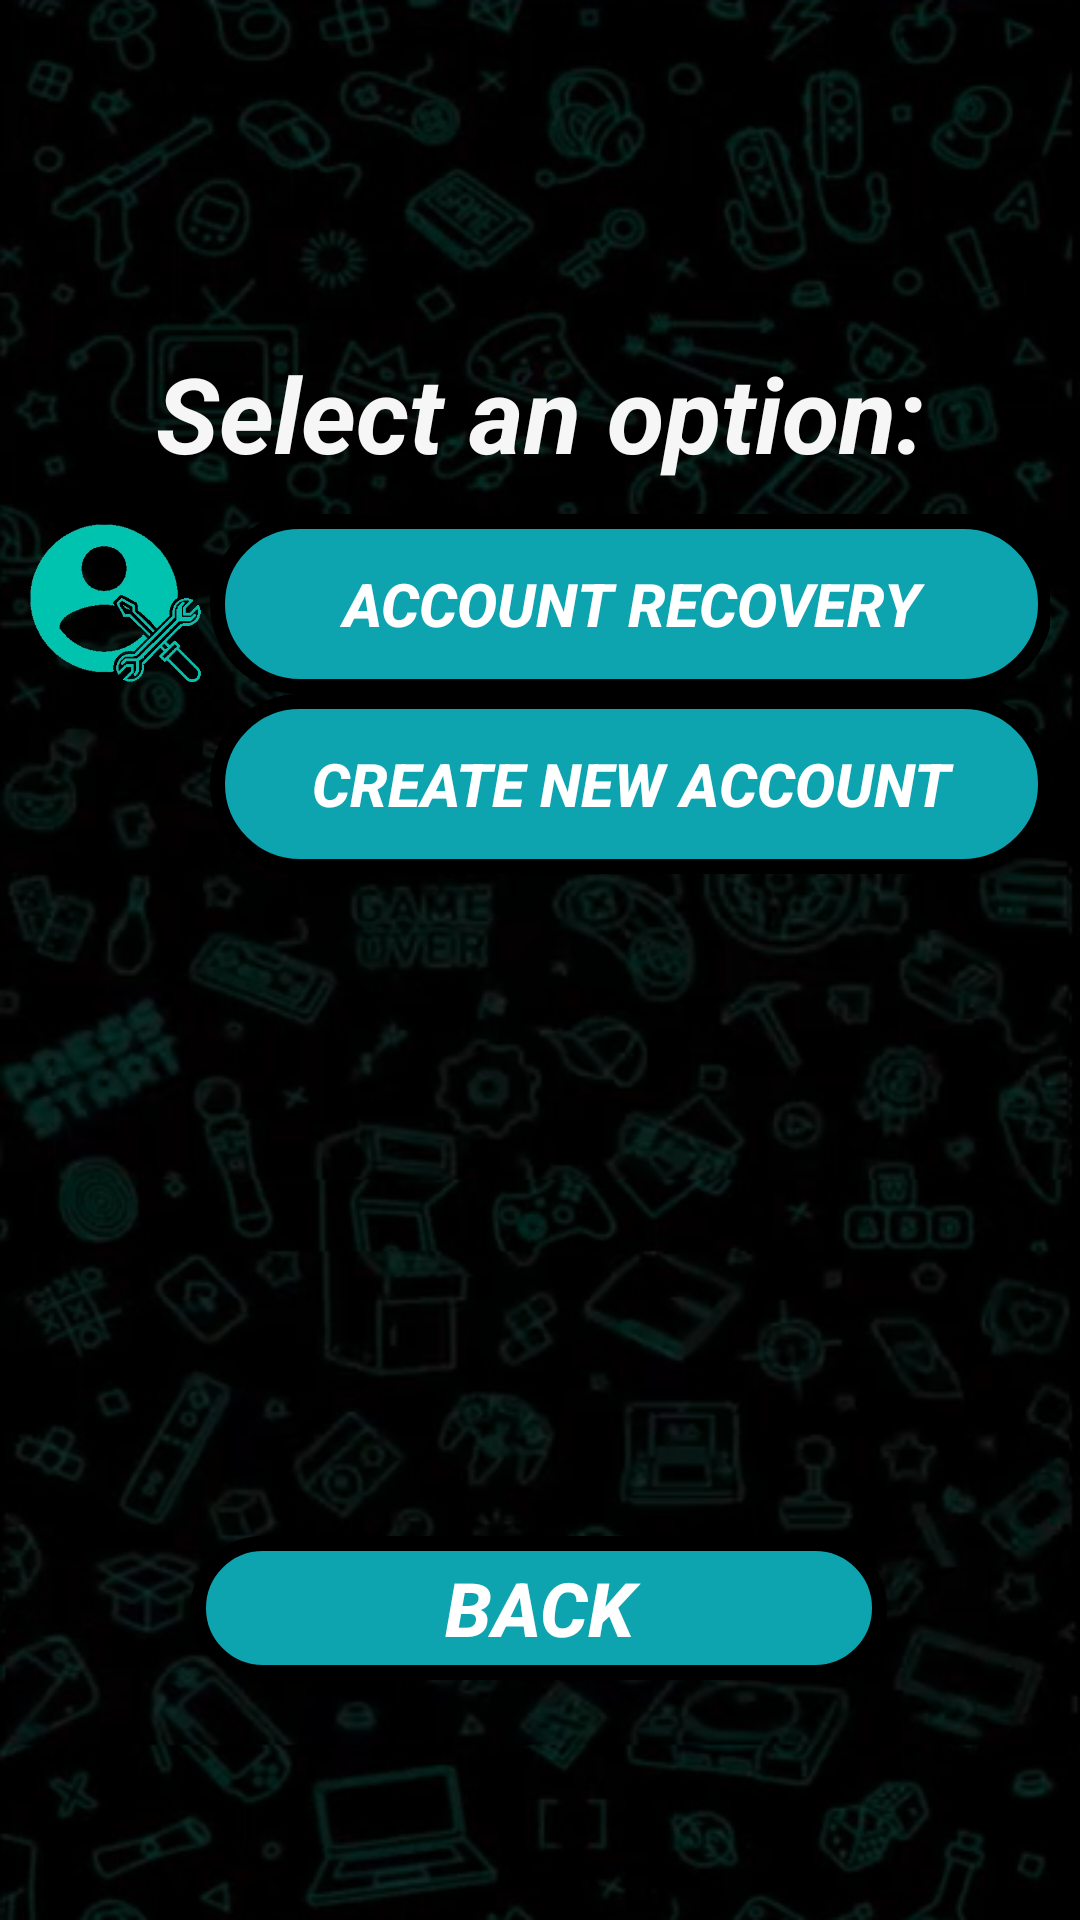

Screen size 1080*1920. Icon name, then its center in pixels as point (x, y):
repararcuenta: point (120, 607)
